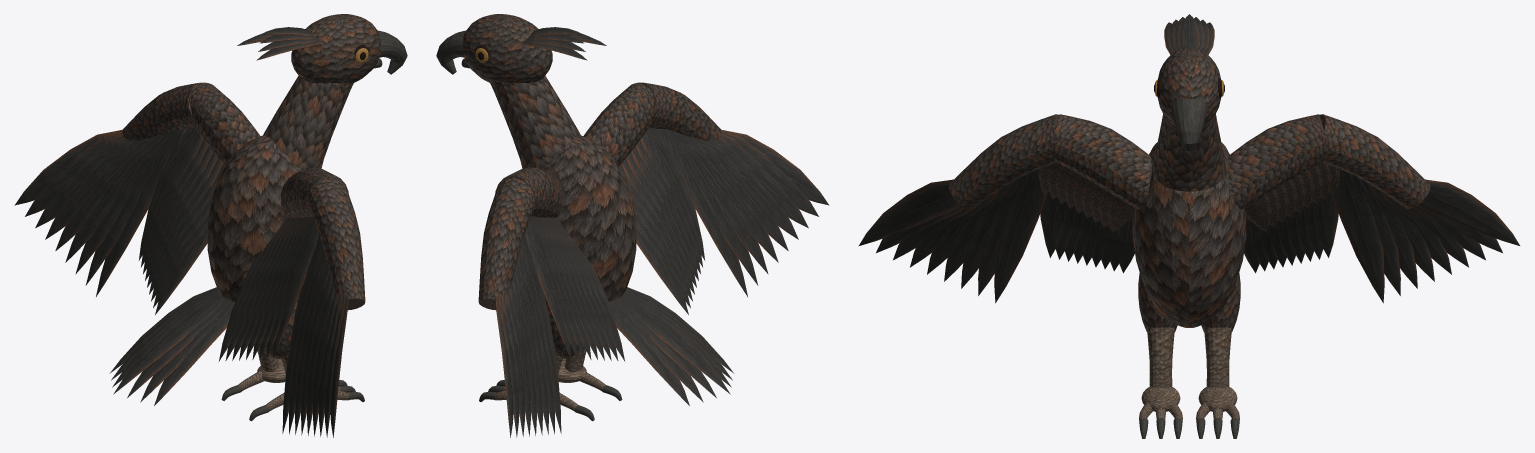
File: kelenken.obj
3 views of the same model, side by side, from view 1: azimuth 30°, elevation 25°; view 2: azimuth 150°, elevation 25°; view 3: azimuth 270°, elevation 25° (orthographic). The views are drawn at different scales.
Visible parts, largest first — view 1: trunk_coat, neck_coat, left_wing_fore_coat, cranium_coat, right_wing_upper_coat, right_wing_fore_coat, right_primary_0_flight, tail_3_flight, right_secondary_8_flight, left_secondary_8_flight, right_primary_1_flight, right_primary_2_flight (+40 smaller); view 2: trunk_coat, neck_coat, right_wing_fore_coat, cranium_coat, left_wing_upper_coat, left_wing_fore_coat, left_primary_0_flight, tail_3_flight, left_secondary_8_flight, right_secondary_8_flight, left_primary_1_flight, left_primary_2_flight (+40 smaller); view 3: trunk_coat, left_wing_upper_coat, right_wing_upper_coat, left_wing_fore_coat, right_wing_fore_coat, neck_coat, cranium_coat, right_primary_0_flight, left_primary_0_flight, right_primary_8_flight, left_primary_8_flight, left_tarsus_leg (+24 smaller).
Part boxes in pixels (left/top/right/bottom): trunk_coat: left=207, top=135, right=301, bottom=301; neck_coat: left=263, top=75, right=353, bottom=169; left_wing_fore_coat: left=306, top=178, right=365, bottom=310; cranium_coat: left=291, top=14, right=380, bottom=83; right_wing_upper_coat: left=190, top=83, right=260, bottom=166; right_wing_fore_coat: left=122, top=82, right=206, bottom=140; right_primary_0_flight: left=96, top=129, right=187, bottom=296; tail_3_flight: left=113, top=295, right=225, bottom=394; right_secondary_8_flight: left=139, top=127, right=203, bottom=260; left_secondary_8_flight: left=273, top=216, right=318, bottom=358; right_primary_1_flight: left=85, top=131, right=168, bottom=285; right_primary_2_flight: left=75, top=135, right=158, bottom=274; trunk_coat: left=542, top=135, right=636, bottom=301; neck_coat: left=490, top=75, right=580, bottom=169; right_wing_fore_coat: left=478, top=178, right=537, bottom=310; cranium_coat: left=463, top=14, right=552, bottom=83; left_wing_upper_coat: left=583, top=83, right=653, bottom=166; left_wing_fore_coat: left=637, top=82, right=721, bottom=140; left_primary_0_flight: left=657, top=129, right=747, bottom=296; tail_3_flight: left=618, top=295, right=730, bottom=394; left_secondary_8_flight: left=640, top=127, right=704, bottom=260; right_secondary_8_flight: left=525, top=216, right=570, bottom=358; left_primary_1_flight: left=675, top=131, right=758, bottom=285; left_primary_2_flight: left=685, top=135, right=768, bottom=274; trunk_coat: left=1132, top=142, right=1246, bottom=327; left_wing_upper_coat: left=1048, top=114, right=1151, bottom=209; right_wing_upper_coat: left=1227, top=114, right=1330, bottom=209; left_wing_fore_coat: left=948, top=114, right=1059, bottom=208; right_wing_fore_coat: left=1319, top=114, right=1430, bottom=208; neck_coat: left=1153, top=114, right=1225, bottom=191; cranium_coat: left=1157, top=47, right=1221, bottom=125; right_primary_0_flight: left=1331, top=169, right=1384, bottom=303; left_primary_0_flight: left=994, top=169, right=1047, bottom=303; right_primary_8_flight: left=1418, top=179, right=1519, bottom=245; left_primary_8_flight: left=859, top=179, right=960, bottom=245; left_tarsus_leg: left=1147, top=327, right=1174, bottom=387.
Size of the model in its own units: 82.6 by 100 by 156.
Materials: 4 (4 with a texture image).
